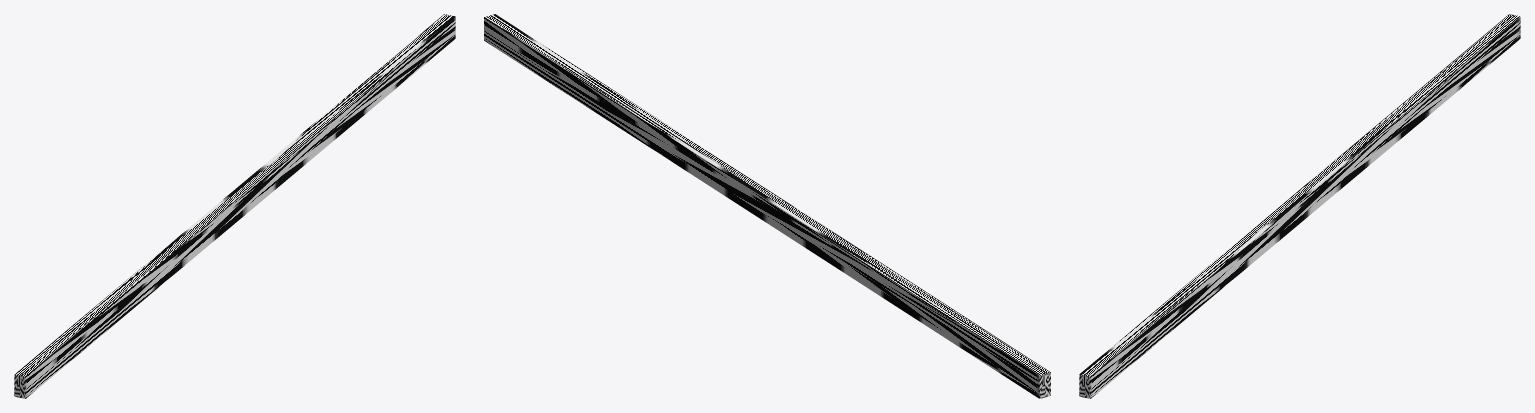
3 renders of one model, left to right at view 1: azimuth 90°, elevation 25°; view 2: azimuth 150°, elevation 25°; view 3: azimuth 270°, elevation 25°, orthographic. The views are drawn at different scales.
Visible parts, largest first — view 1: Cube.012; view 2: Cube.012; view 3: Cube.012.
Part boxes in pixels (box(x1,y1,x2,y2)): Cube.012: box(14, 14, 455, 398); Cube.012: box(484, 14, 1050, 398); Cube.012: box(1079, 14, 1520, 398).
Size of the model in its own units: 19.85 by 0.5648 by 10.21.
1 material, 1 textured.
